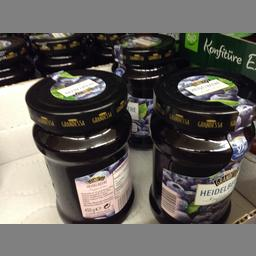jam: (25, 68, 134, 222), (147, 68, 248, 222), (111, 33, 175, 150)
